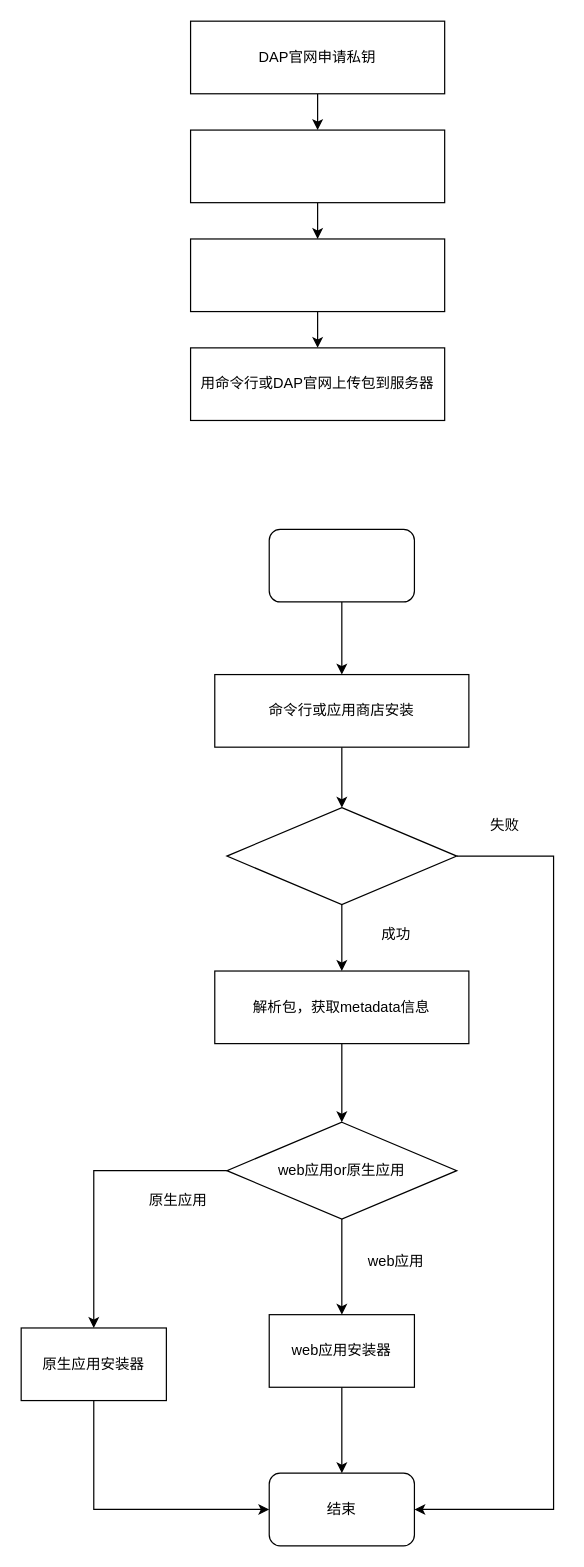
Image size: 584x1567. Some labels were removed from this diagram. The box of each missing label's shape, as (x1, y1, x2, y2) in pixels:
利用私钥和包数据信息计算数据签名，并写入包文件header: (189, 238, 445, 312)
开始: (268, 528, 414, 602)
根据包规范进行打包: (189, 129, 445, 203)
验证包header的数字签名: (226, 806, 457, 904)
